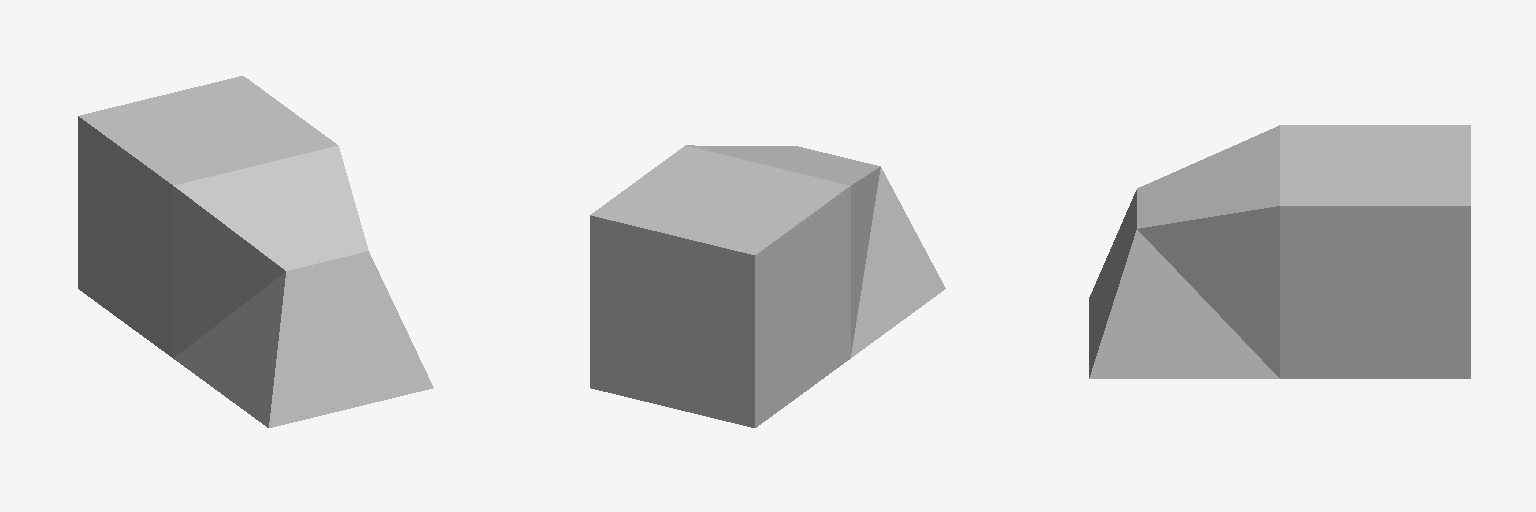
3 renders of one model, left to right at view 1: azimuth 30°, elevation 25°; view 2: azimuth 150°, elevation 25°; view 3: azimuth 270°, elevation 25°, orthographic.
Visible parts, largest first — view 1: Submarine; view 2: Submarine; view 3: Submarine.
Boxes of the visible parts, x1,y1,x2,y2 form: Submarine: [78, 76, 433, 427]; Submarine: [590, 145, 945, 427]; Submarine: [1089, 125, 1470, 378].
Size of the model in its own units: 6 by 6.27 by 12.